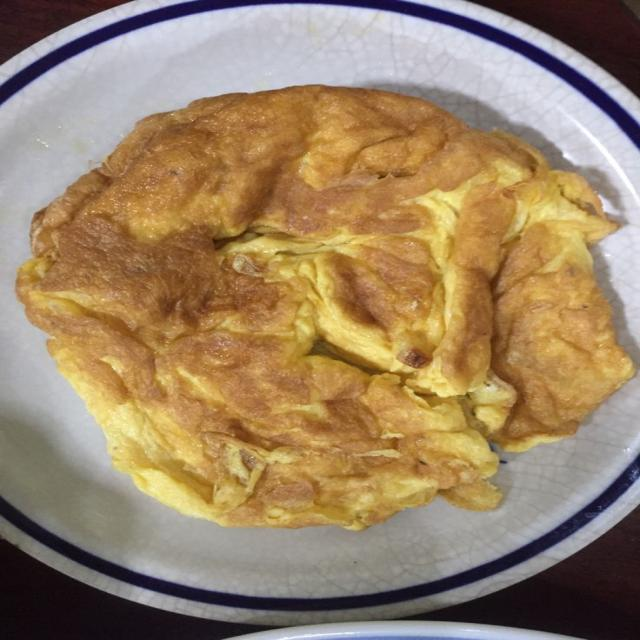omelette: (17, 86, 632, 529)
